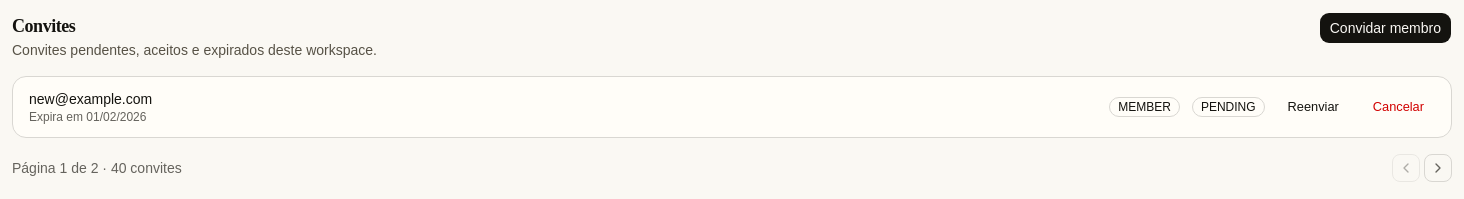
Scenario: WorkspaceInvitationsSettings › shows pagination and moves to the next page on click
expect the text "new@example.com" is shown: met, box x1=29 y1=91 x2=152 y2=107
Click the button named "Próxima página": click(1438, 168) x1=1424 y1=154 x2=1452 y2=182
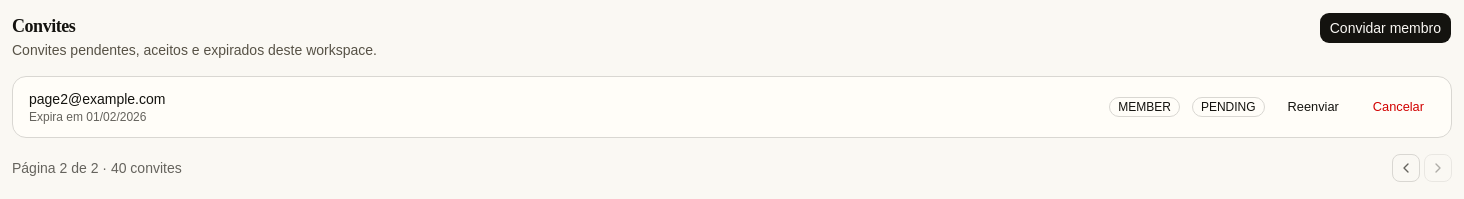
expect the text "page2@example.com" is shown: met, box x1=29 y1=91 x2=165 y2=107
